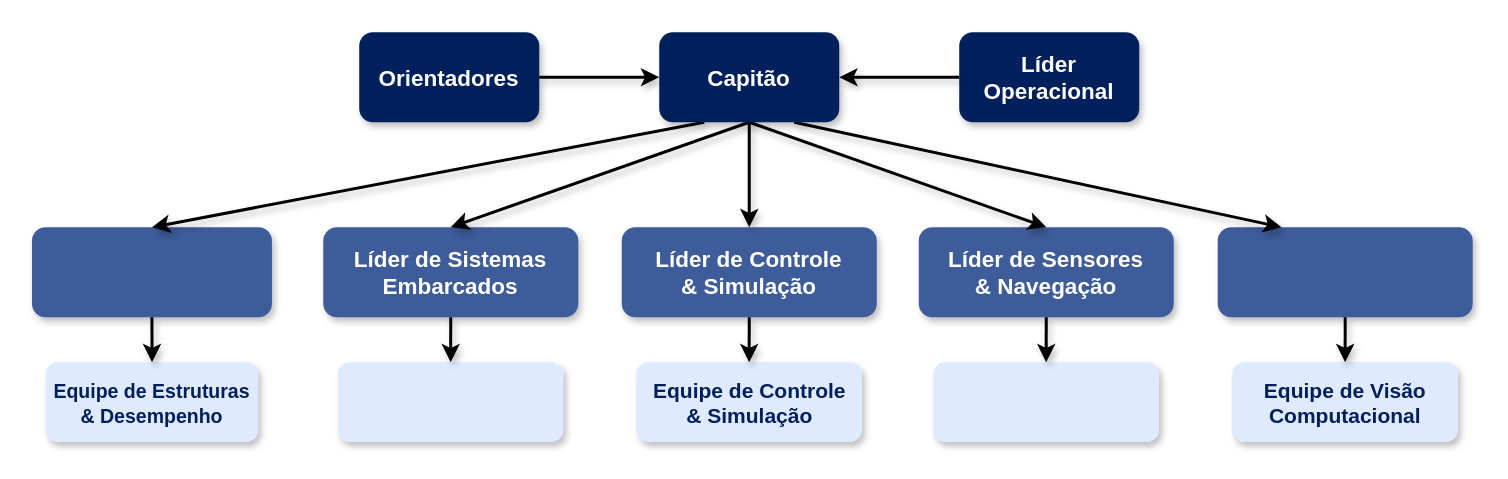
Some shapes in this 1508 by 479 pixel diagram are drawn without their labels. The shapes that lost their labels are listed below. From the top down, each one's centre as x and y in pixels, then its label:
At [152,273]: "Líder de Estruturas & Desempenho".
At [1346,273]: "Líder de Visão Computacional".
At [451,404]: "Equipe de Sistemas Embarcados".
At [1047,404]: "Equipe de Sensores & Navegação".
